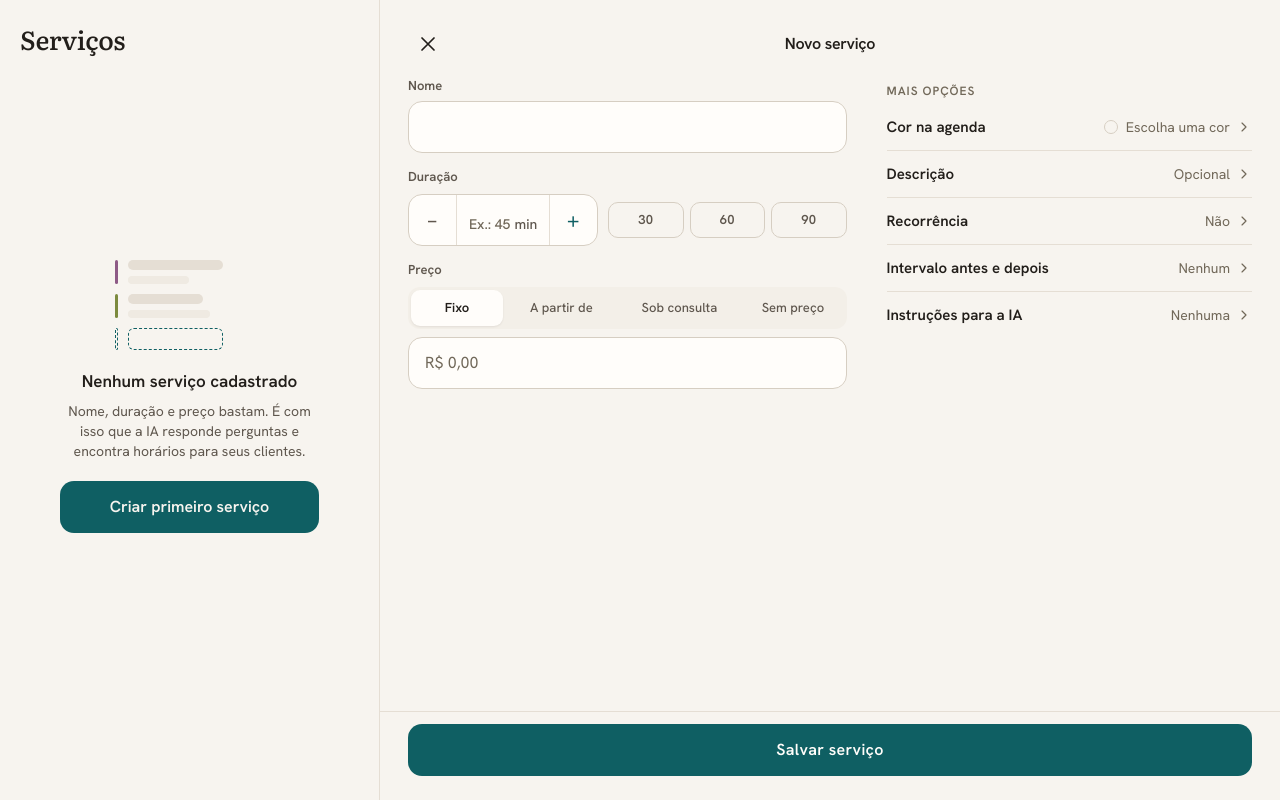
Test: §4.6 a frase 'A IA responde' por tipo de preço › STARTING_AT: 'Escova custa a partir de R$ 60 e leva 40 min.'
The width and height of the screenshot is (1280, 800).
Type "Escova" into the field labelled "Nome".
click(627, 127); type("Escova")  # box [408,101,846,153]
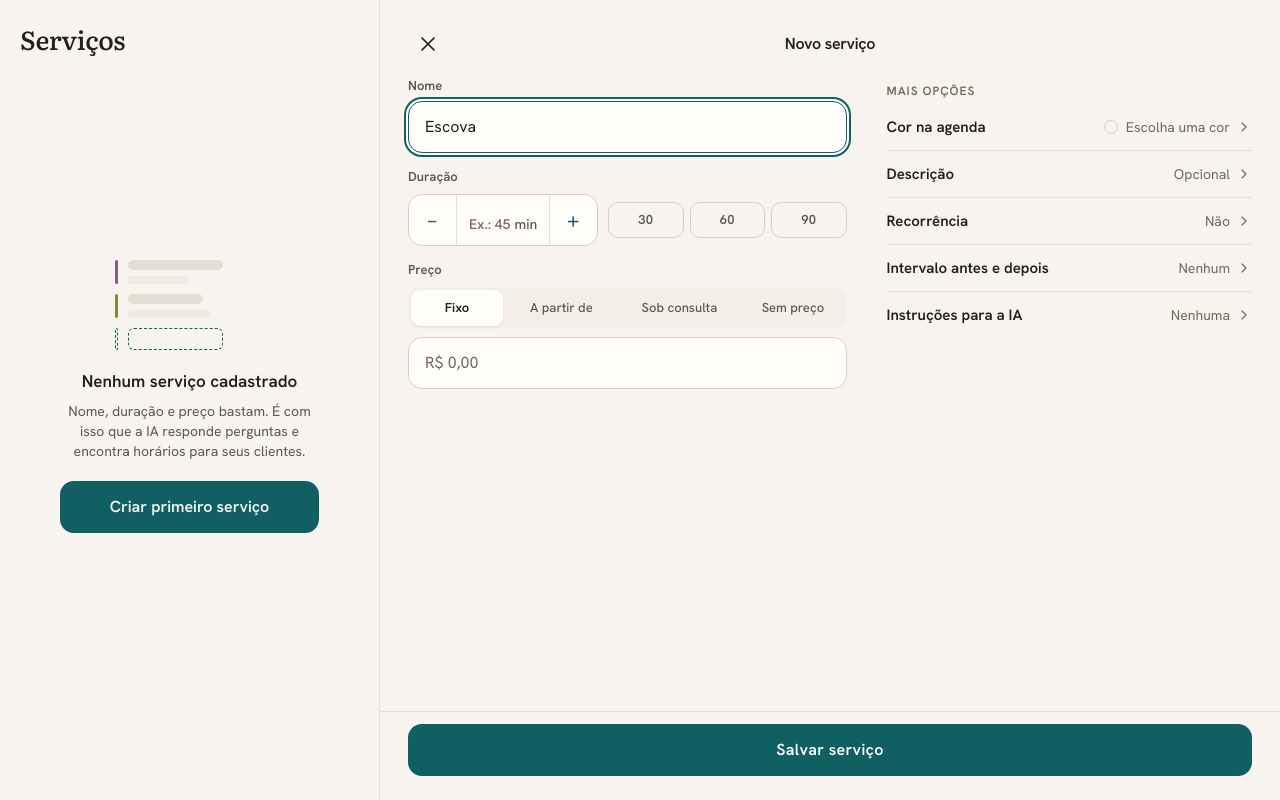
Type "40" into the number field named "Duração (minutos)".
click(490, 220); type("40")  # box [469,205,510,235]
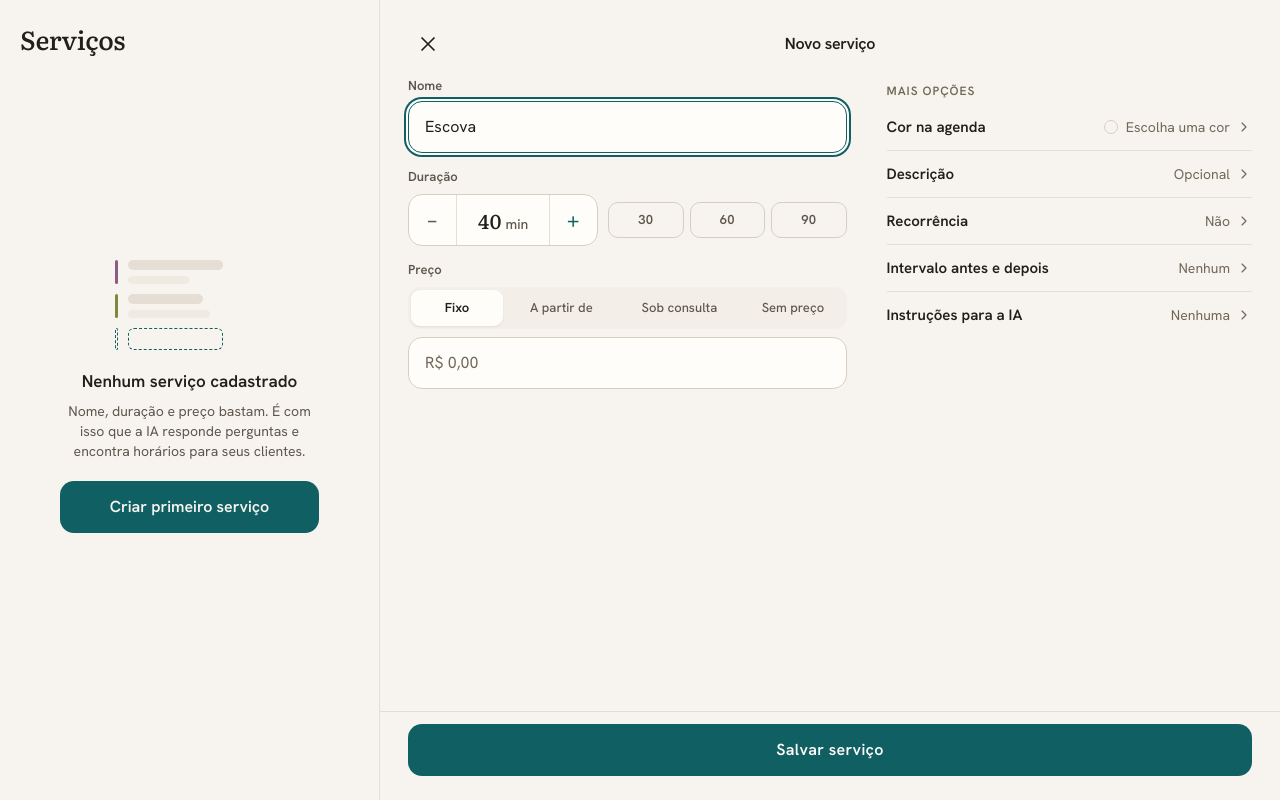
Click the radio button labelled "A partir de".
click(561, 307)  # box [530,299,593,316]
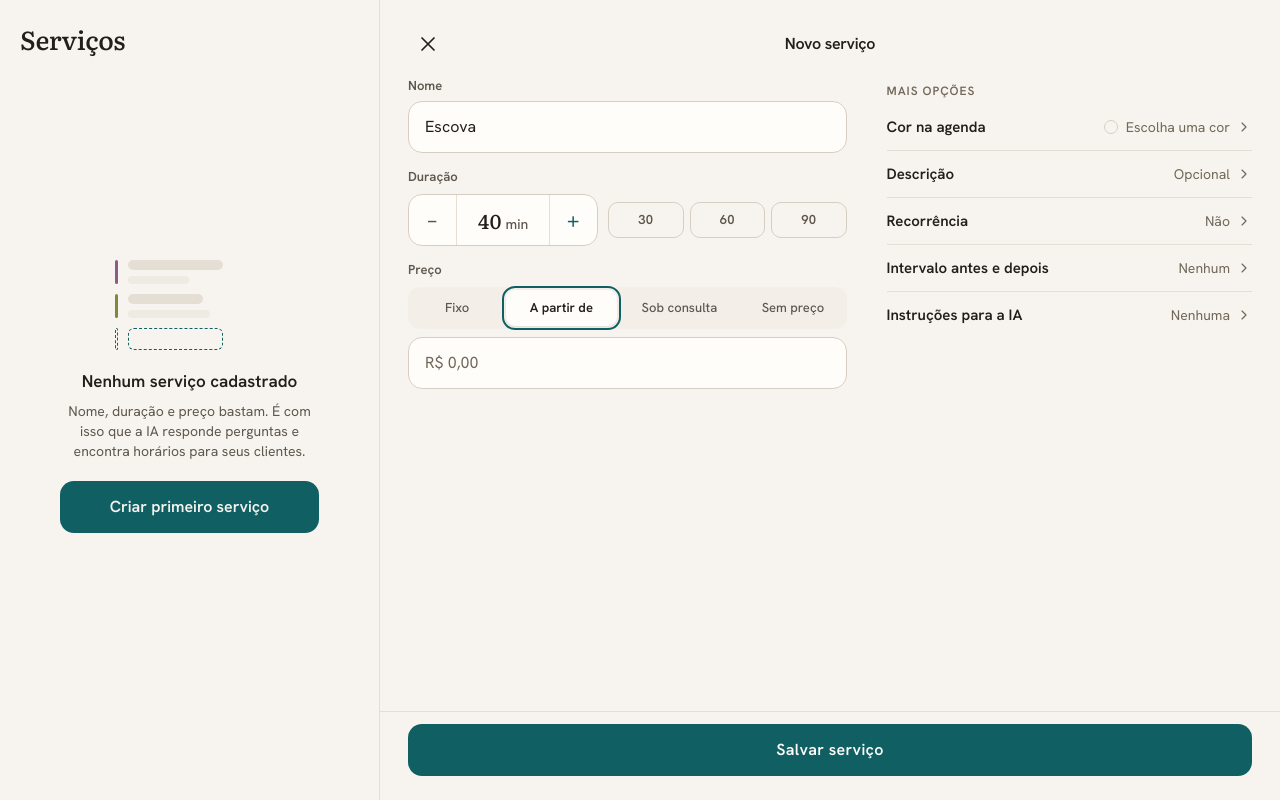
Type "6" into the field with placeholder "R$ 0,00".
click(627, 363); type("6")  # box [408,337,846,389]
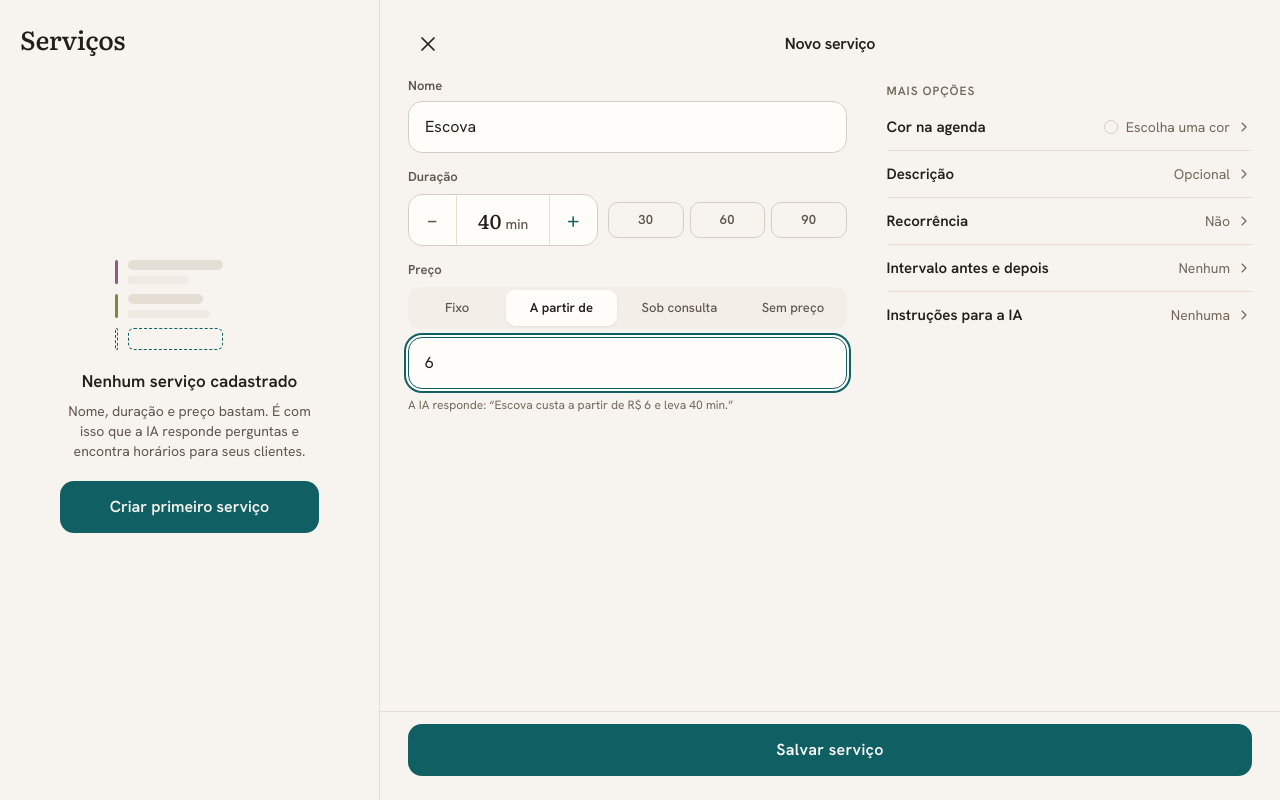
Type "0" into the field with placeholder "R$ 0,00".
click(627, 363); type("0")  # box [408,337,846,389]
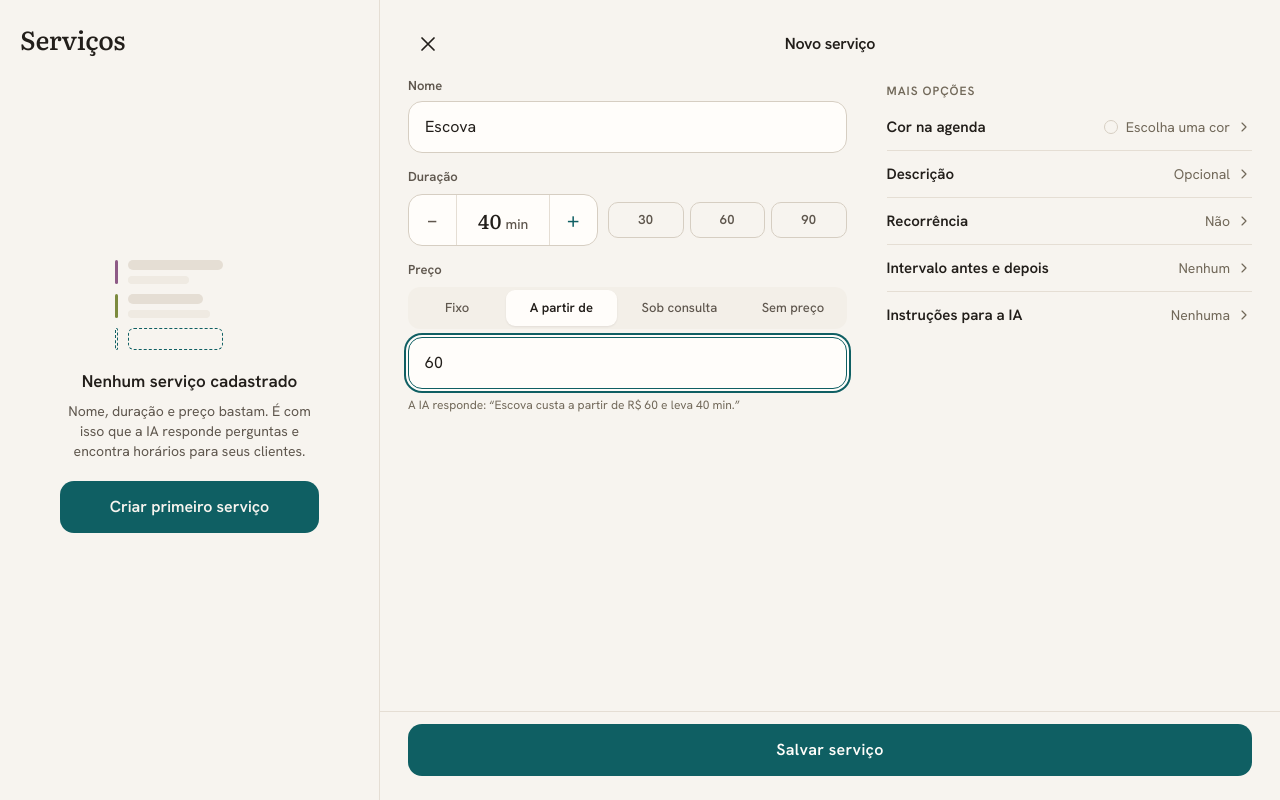
Result: the text "A IA responde: “Escova custa a partir de R$ 60 e leva 40 min.”" is shown at [408,397,740,413]
